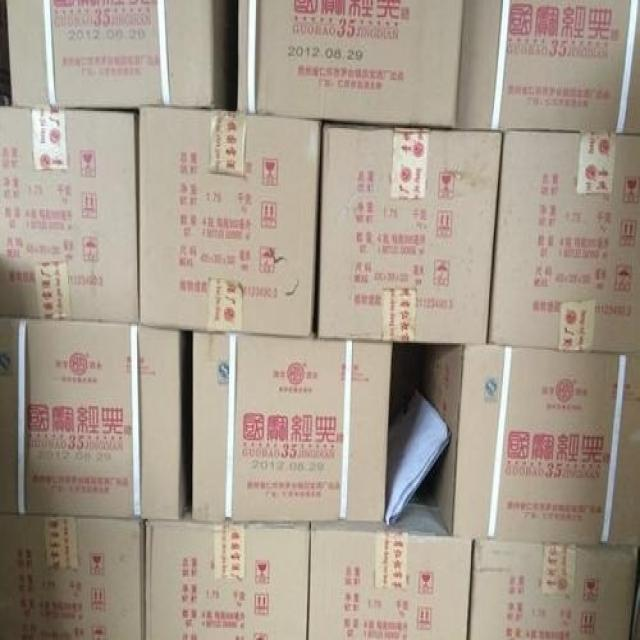box: (424, 343, 640, 546), (141, 106, 321, 336), (315, 121, 500, 343), (192, 331, 393, 522), (0, 319, 186, 519), (486, 130, 640, 353), (0, 106, 140, 324), (237, 0, 462, 126), (6, 0, 233, 109), (456, 0, 640, 133), (307, 505, 472, 640), (145, 522, 308, 640), (0, 514, 143, 640), (468, 541, 640, 640)
